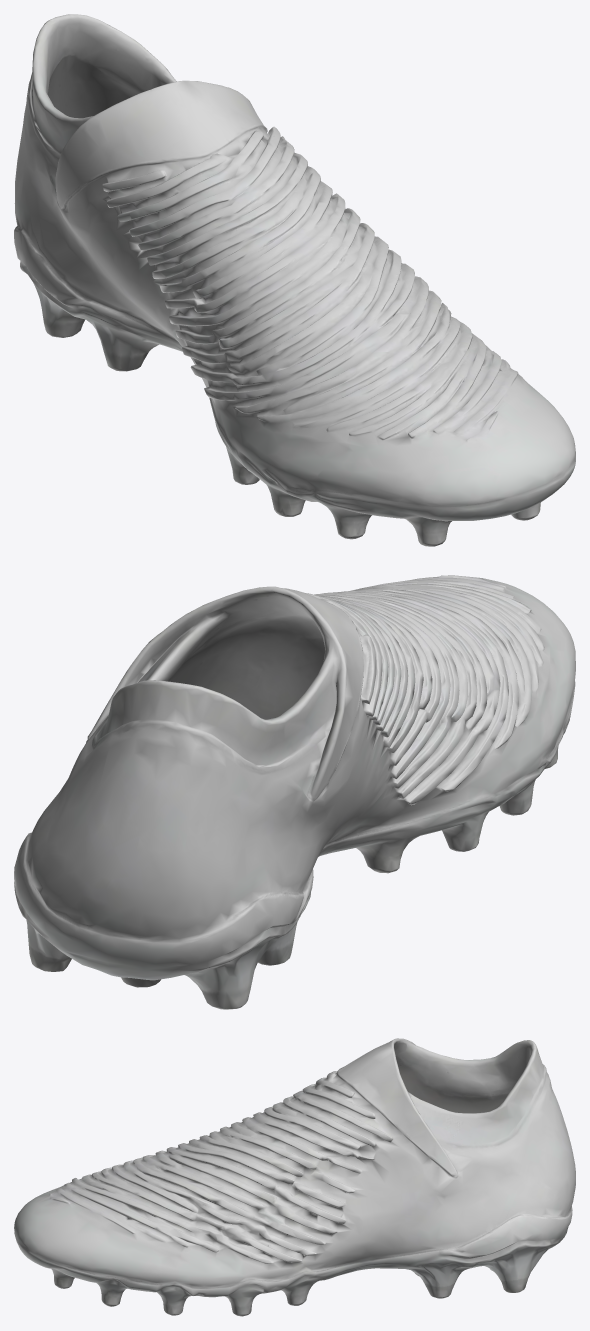
The model's file is boot-maestro-hf.glb.
The picture shows the model from 3 angles, top to bottom: view 1: azimuth 30°, elevation 25°; view 2: azimuth 150°, elevation 25°; view 3: azimuth 270°, elevation 25°; orthographic projection. The views are drawn at different scales.
Visible parts, largest first — view 1: tripo_node_3ba76d6a-81e9-45cf-b4d0-1b422df5bfc3; view 2: tripo_node_3ba76d6a-81e9-45cf-b4d0-1b422df5bfc3; view 3: tripo_node_3ba76d6a-81e9-45cf-b4d0-1b422df5bfc3.
Part boxes in pixels (x1,y1,x2,y2): tripo_node_3ba76d6a-81e9-45cf-b4d0-1b422df5bfc3: [14, 14, 575, 546]; tripo_node_3ba76d6a-81e9-45cf-b4d0-1b422df5bfc3: [14, 575, 575, 1009]; tripo_node_3ba76d6a-81e9-45cf-b4d0-1b422df5bfc3: [14, 1038, 575, 1316].
Size of the model in its own units: 0.3962 by 0.4163 by 1.
1 material, 1 textured.
